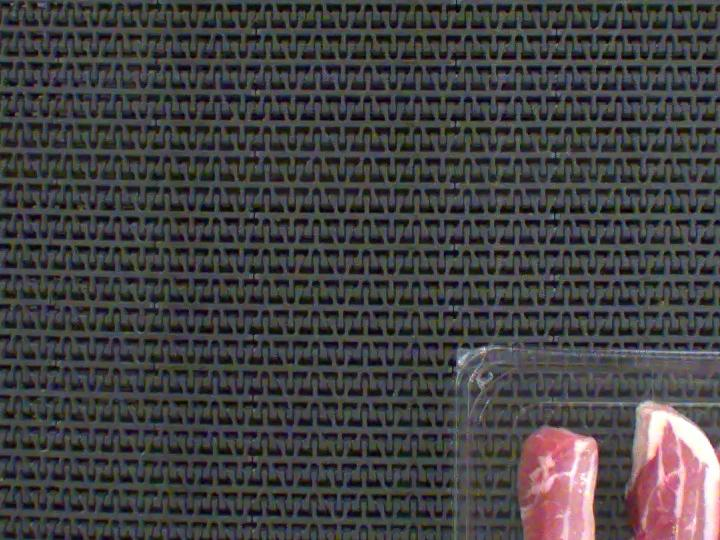unsealed: (463, 335, 636, 540)
